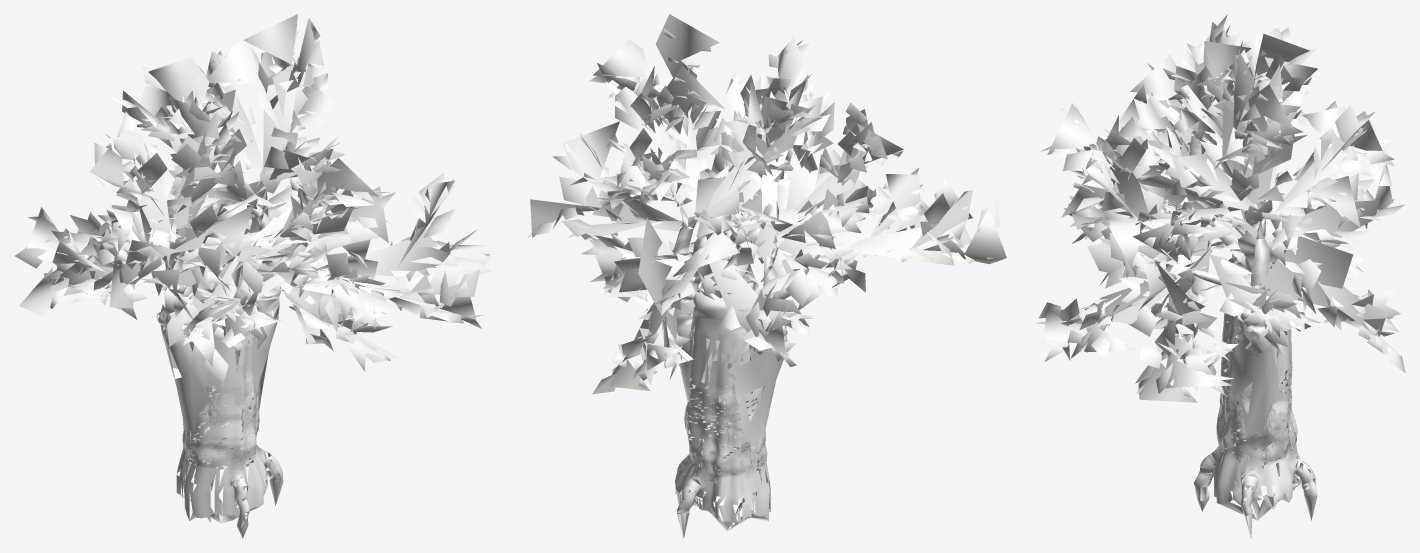
The model's file is narra.glb.
3 renders of one model, left to right at view 1: azimuth 30°, elevation 25°; view 2: azimuth 150°, elevation 25°; view 3: azimuth 270°, elevation 25°, orthographic.
Visible parts, largest first — view 1: Oak_English_Cluster_Branch_Summer, Oak_English_Cluster_Leaf_Summer, Bark_Base, Oak_English_Cluster_Branch, Moss_Atlas; view 2: Oak_English_Cluster_Branch_Summer, Oak_English_Cluster_Leaf_Summer, Bark_Base, Oak_English_Cluster_Branch, Moss_Atlas; view 3: Oak_English_Cluster_Branch_Summer, Oak_English_Cluster_Leaf_Summer, Bark_Base, Oak_English_Cluster_Branch, Moss_Atlas, narra.
Part boxes in pixels (<box>): Oak_English_Cluster_Branch_Summer: <box>19,14,498,366</box>; Oak_English_Cluster_Leaf_Summer: <box>15,21,491,382</box>; Bark_Base: <box>160,191,317,538</box>; Oak_English_Cluster_Branch: <box>55,40,450,341</box>; Moss_Atlas: <box>160,296,279,479</box>; Oak_English_Cluster_Branch_Summer: <box>530,14,1006,390</box>; Oak_English_Cluster_Leaf_Summer: <box>527,29,999,394</box>; Bark_Base: <box>670,204,820,538</box>; Oak_English_Cluster_Branch: <box>581,66,968,380</box>; Moss_Atlas: <box>680,302,785,494</box>; Oak_English_Cluster_Branch_Summer: <box>1043,22,1400,402</box>; Oak_English_Cluster_Leaf_Summer: <box>1036,14,1405,397</box>; Bark_Base: <box>1176,200,1317,538</box>; Oak_English_Cluster_Branch: <box>1063,61,1385,359</box>; Moss_Atlas: <box>1216,313,1297,490</box>; narra: <box>1216,482,1300,520</box>.
Bounding box in the file's own units: 7.28 × 7.23 × 4.83.
8 materials, 8 textured.
